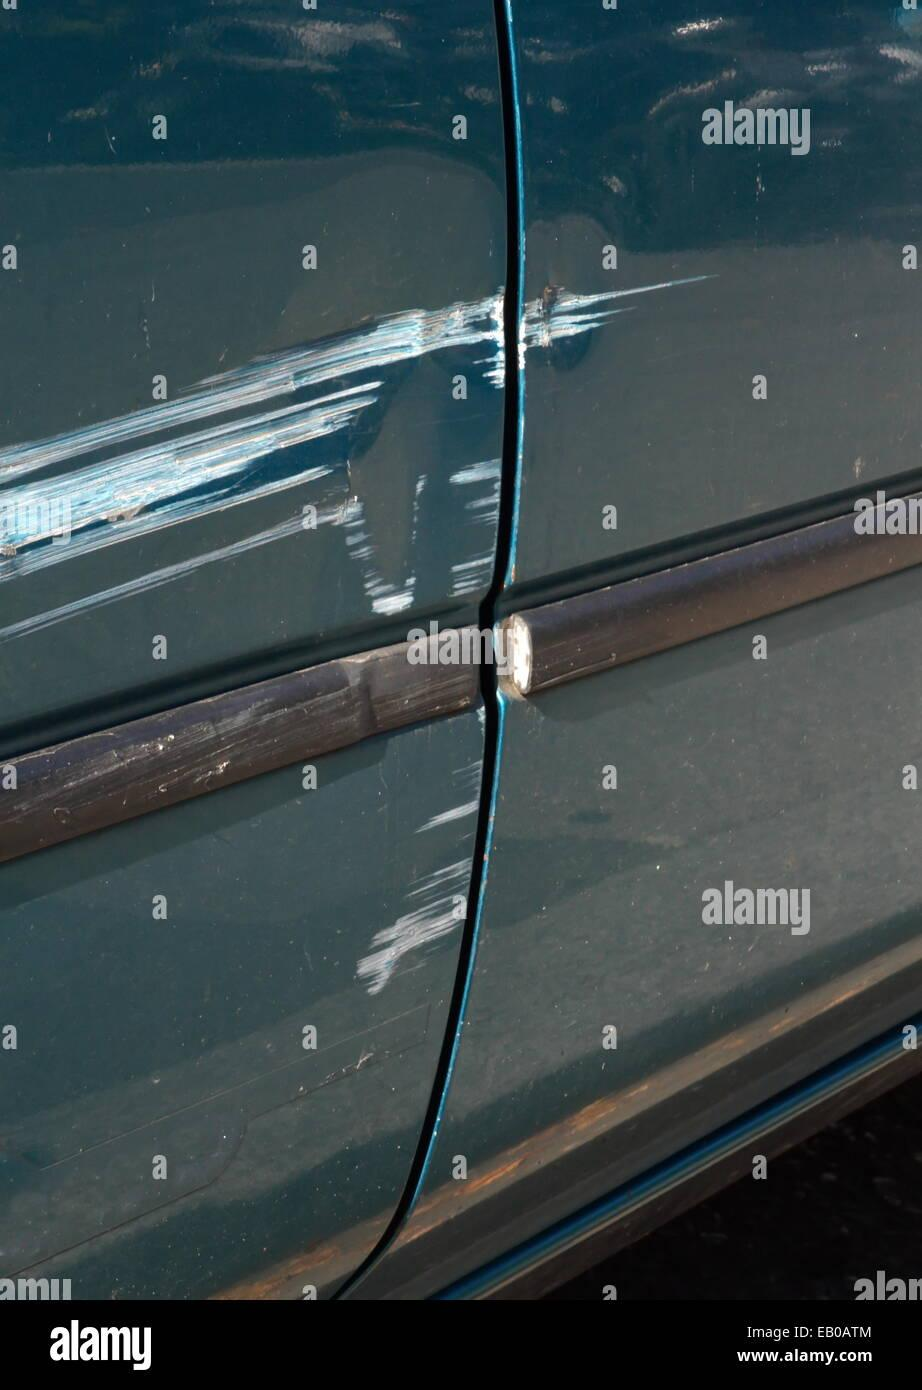scratch: (5, 250, 760, 1020)
